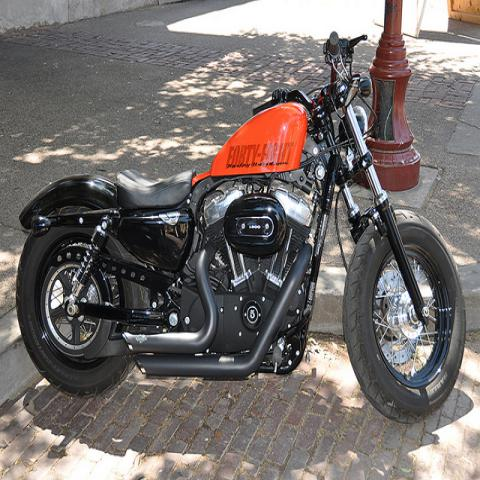motorcycle: (16, 32, 465, 423)
